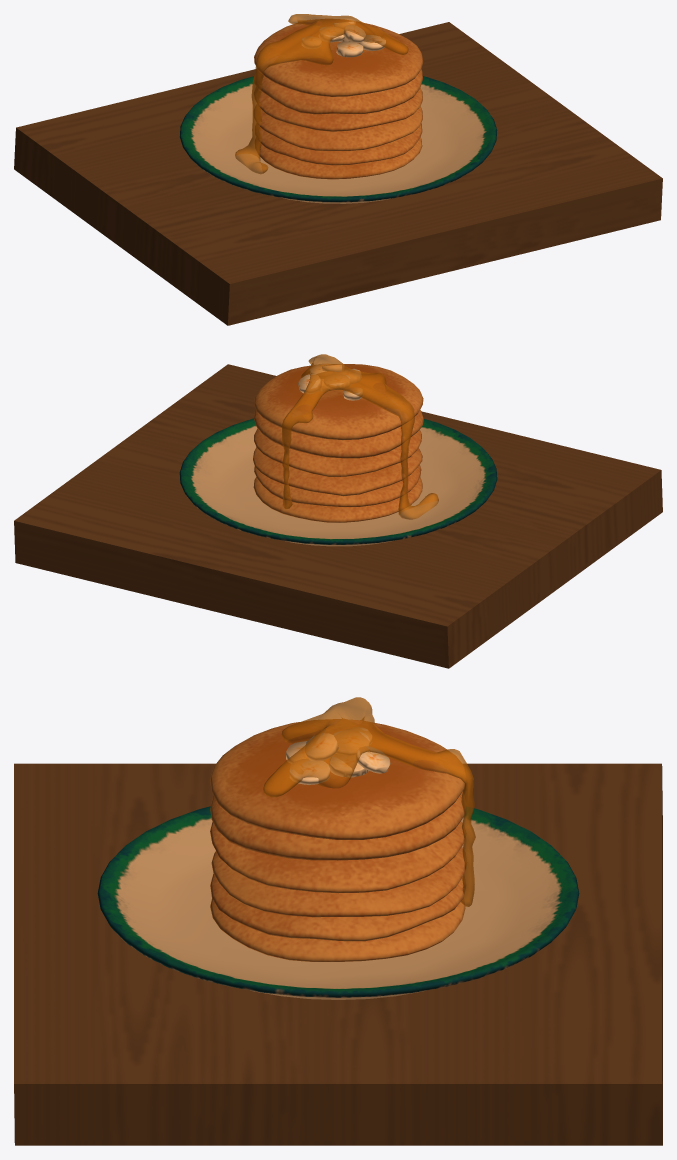
The model's file is pan.glb.
The picture shows the model from 3 angles, top to bottom: view 1: azimuth 30°, elevation 25°; view 2: azimuth 150°, elevation 25°; view 3: azimuth 270°, elevation 25°; orthographic projection. The views are drawn at different scales.
Visible parts, largest first — view 1: PCMesh_lambert1_0; view 2: PCMesh_lambert1_0; view 3: PCMesh_lambert1_0.
Part boxes in pixels (x1,y1,x2,y2): PCMesh_lambert1_0: (14, 14, 662, 325); PCMesh_lambert1_0: (14, 354, 662, 668); PCMesh_lambert1_0: (14, 697, 662, 1145).
Bounding box in the file's own units: 0.8908 × 0.3411 × 0.7597.
1 material, 1 textured.
